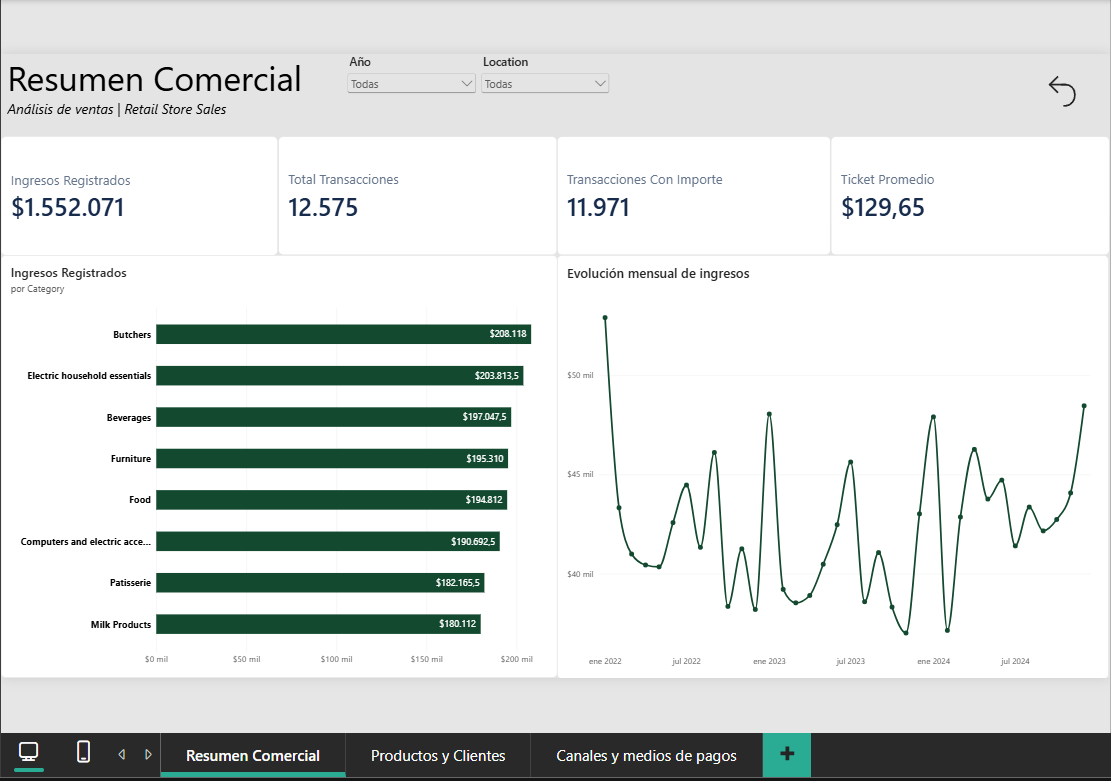

This screenshot's page, from the dashboard's own definition file:
{"tool":"powerbi","page":{"name":"Resumen Comercial","canvas":[1920,1080],"ordinal":0},"visuals":[{"type":"textbox","box":[10.7,0,520.5,166.4],"z":0},{"type":"cardVisual","fields":{"Data":["RetailSales_Validada.Ingresos Registrados"]},"box":[0,140.8,478,206.1],"z":1000},{"type":"cardVisual","fields":{"Data":["RetailSales_Validada.Total Transacciones"]},"box":[481,140.8,478,206.1],"z":2000},{"type":"cardVisual","title":"con importe","fields":{"Data":["RetailSales_Validada.Transacciones Con Importe"]},"box":[957.6,143,478,206.1],"z":3000},{"type":"cardVisual","title":"con importe","fields":{"Data":["RetailSales_Validada.Ticket Promedio"]},"box":[1436.4,143,478,206.1],"z":4000},{"type":"clusteredBarChart","fields":{"Category":["RetailSales_Validada.Category"],"Y":["RetailSales_Validada.Ingresos Registrados"]},"box":[0,348.8,959.8,730.1],"z":5000},{"type":"lineChart","title":"Evolución mensual de ingresos","fields":{"Category":["RetailSales_Validada.Inicio_Mes"],"Y":["RetailSales_Validada.Ingresos Registrados"]},"box":[957.6,348.8,959.8,732.3],"z":6000},{"type":"slicer","fields":{"Values":["RetailSales_Validada.Anio"]},"box":[595.8,0,231.8,99],"z":7000},{"type":"slicer","fields":{"Values":["RetailSales_Validada.Location"]},"box":[827.6,0,231,99.7],"z":8000},{"type":"actionButton","box":[1759.3,0,156,128],"z":8001}]}

Visuals, with their boxes on the page's 1920x1080 design canvas (x1, y1, x2, y2). These are canvas units, not pixel positions in the 1111x781 screenshot, which may show the page scaled, cropped or inside an application window:
textbox: [x1=11, y1=0, x2=531, y2=166]
cardVisual - RetailSales_Validada.Ingresos Registrados: [x1=0, y1=141, x2=478, y2=347]
cardVisual - RetailSales_Validada.Total Transacciones: [x1=481, y1=141, x2=959, y2=347]
"con importe" cardVisual: [x1=958, y1=143, x2=1436, y2=349]
"con importe" cardVisual: [x1=1436, y1=143, x2=1914, y2=349]
clusteredBarChart - RetailSales_Validada.Category x RetailSales_Validada.Ingresos Registrados: [x1=0, y1=349, x2=960, y2=1079]
"Evolución mensual de ingresos" lineChart: [x1=958, y1=349, x2=1917, y2=1081]
slicer - RetailSales_Validada.Anio: [x1=596, y1=0, x2=828, y2=99]
slicer - RetailSales_Validada.Location: [x1=828, y1=0, x2=1059, y2=100]
actionButton: [x1=1759, y1=0, x2=1915, y2=128]
